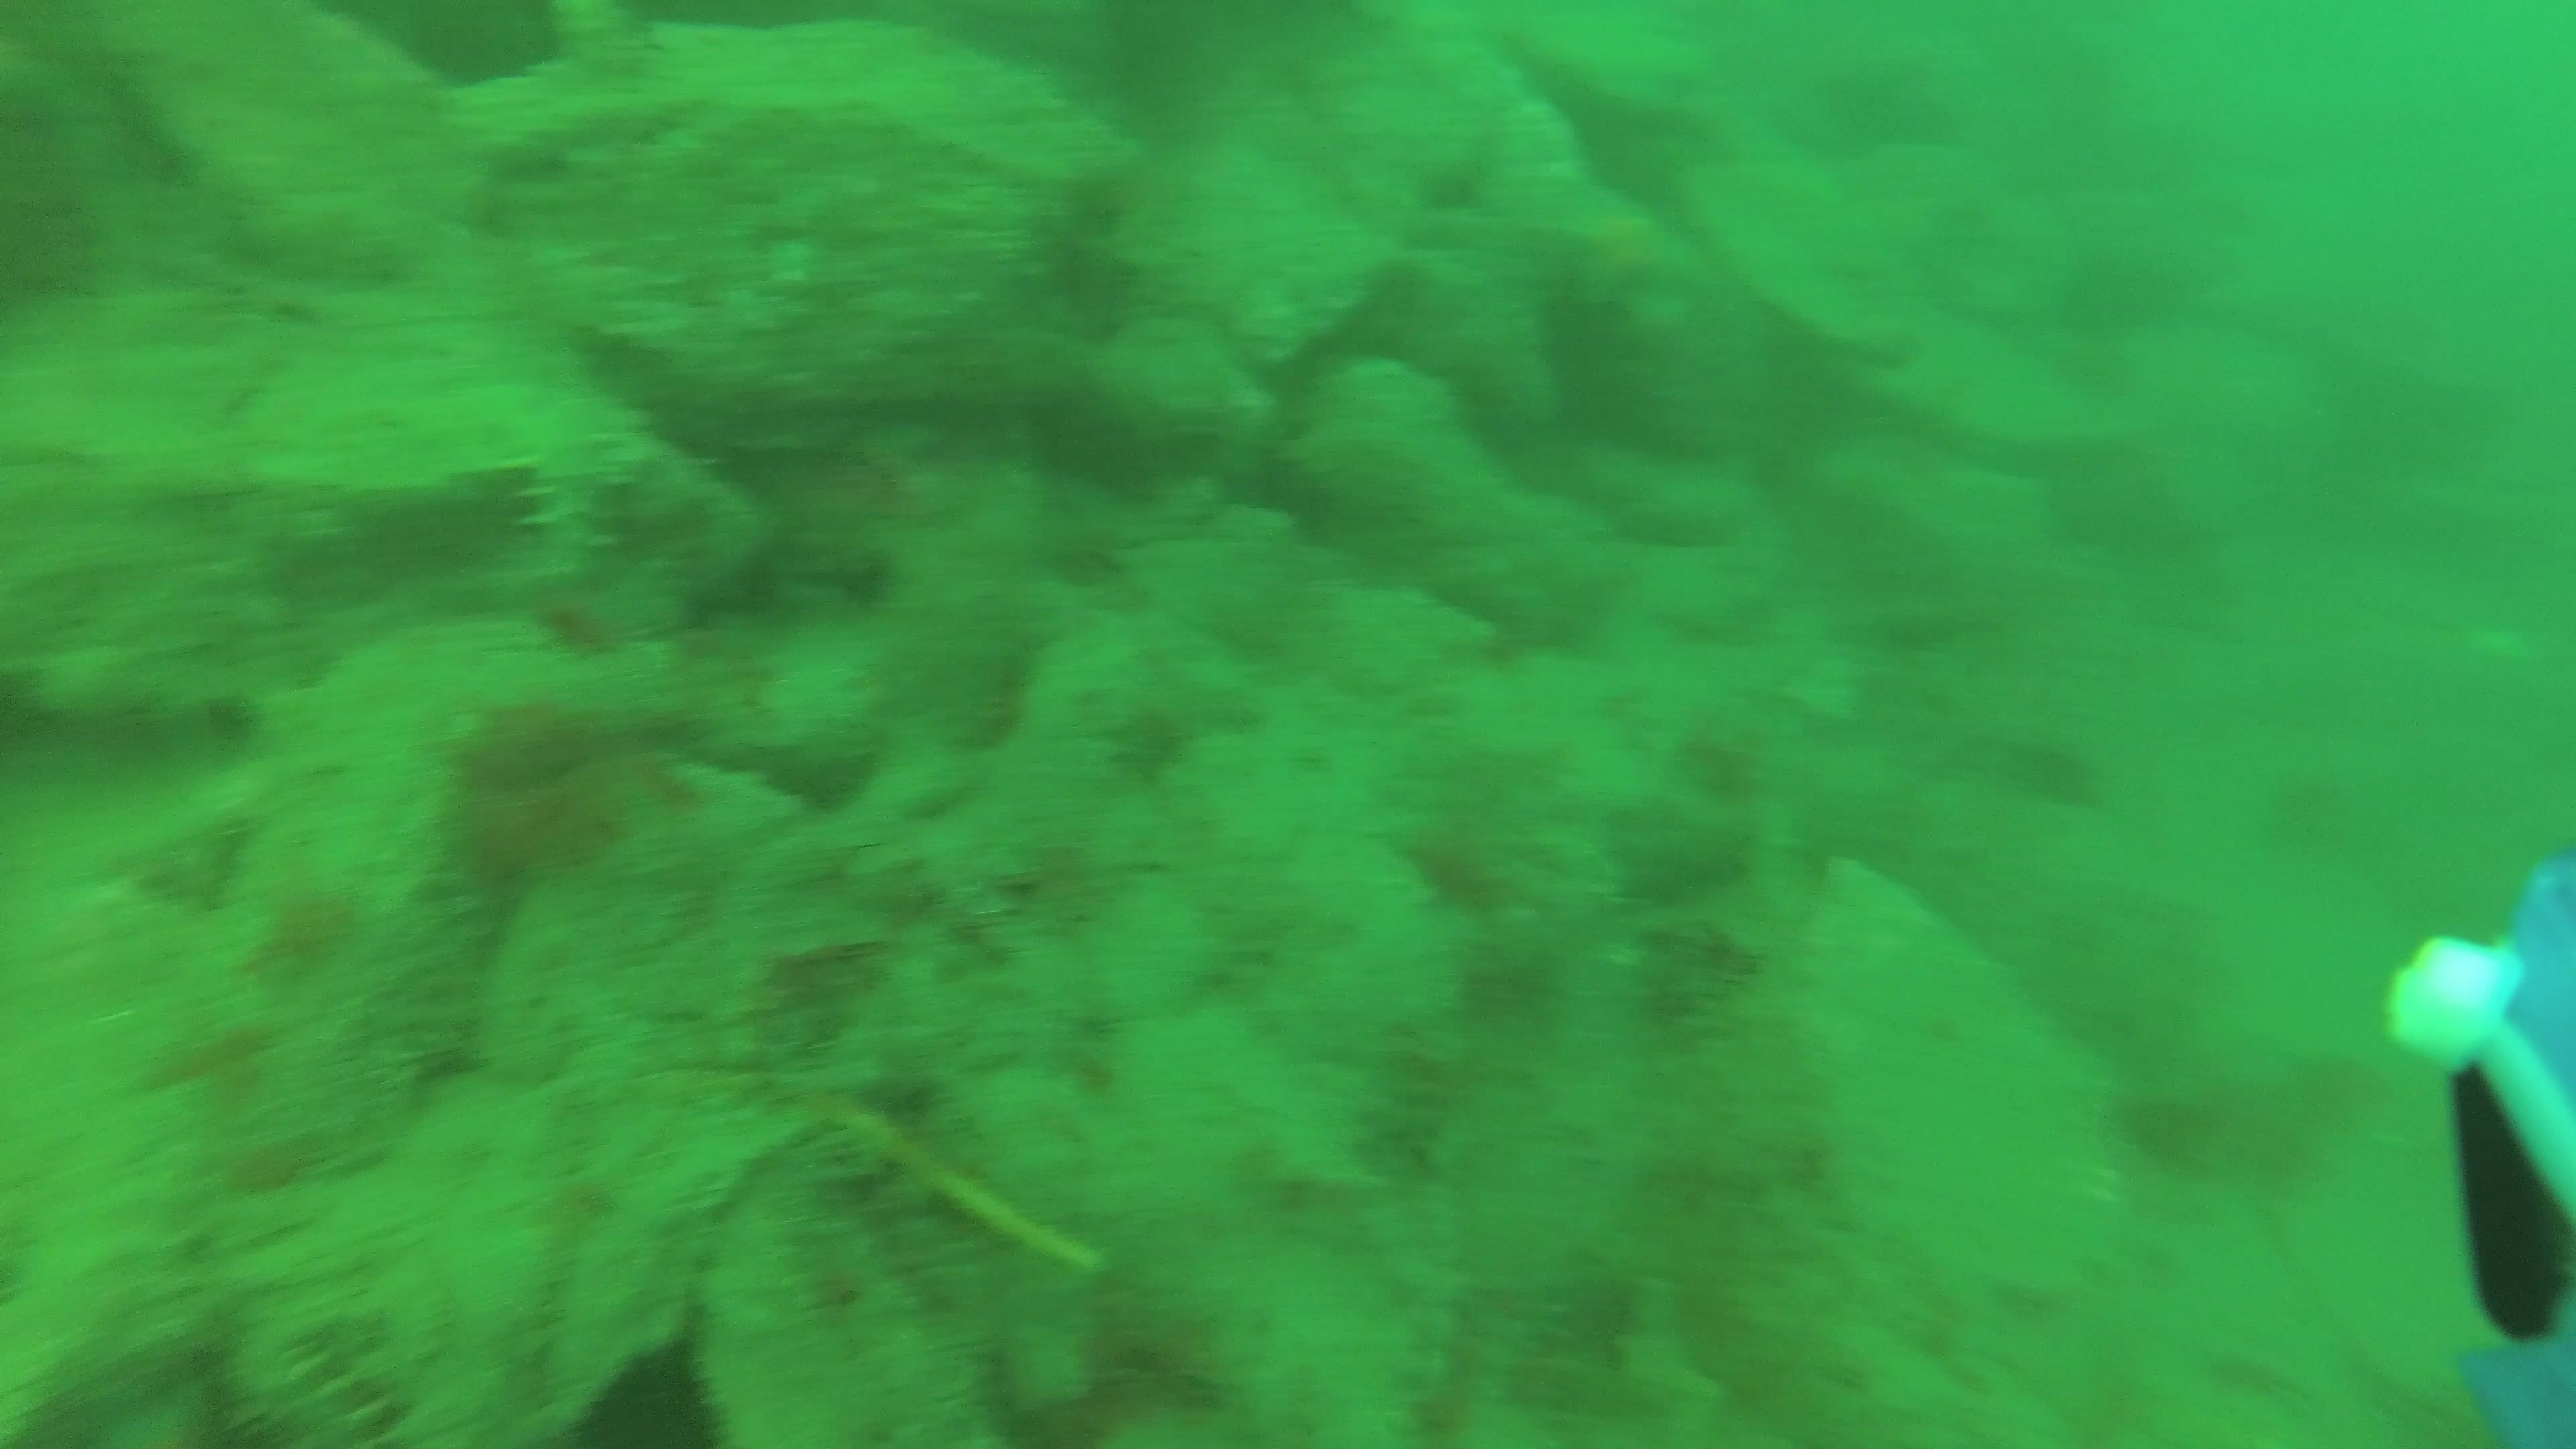holothurian: (205, 1253, 428, 1449), (492, 396, 617, 575)
